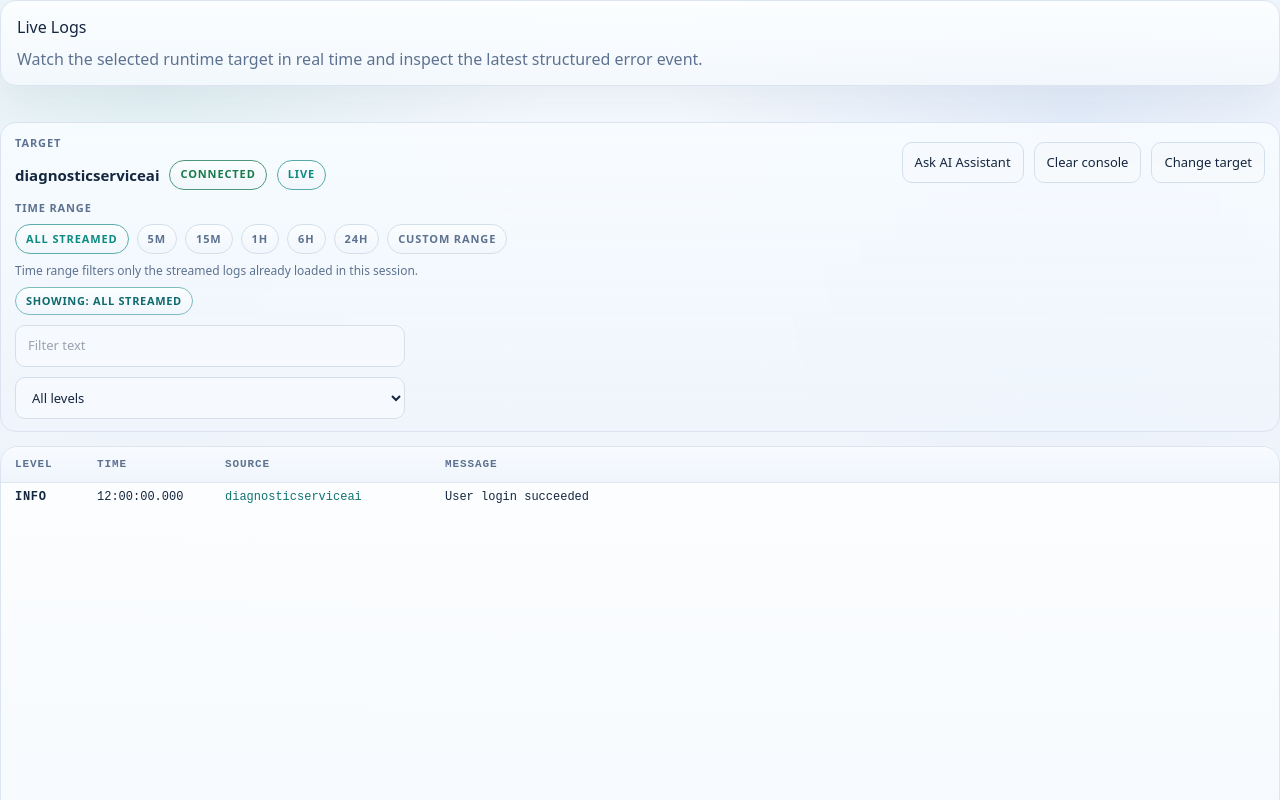
Test: LiveLogsPage › shows the currently active time range summary
Expected: the text named "active time range" shows "All streamed", left=26, top=293, right=182, bottom=308
Click the button "1h" at [260, 239], box left=241, top=224, right=279, bottom=254
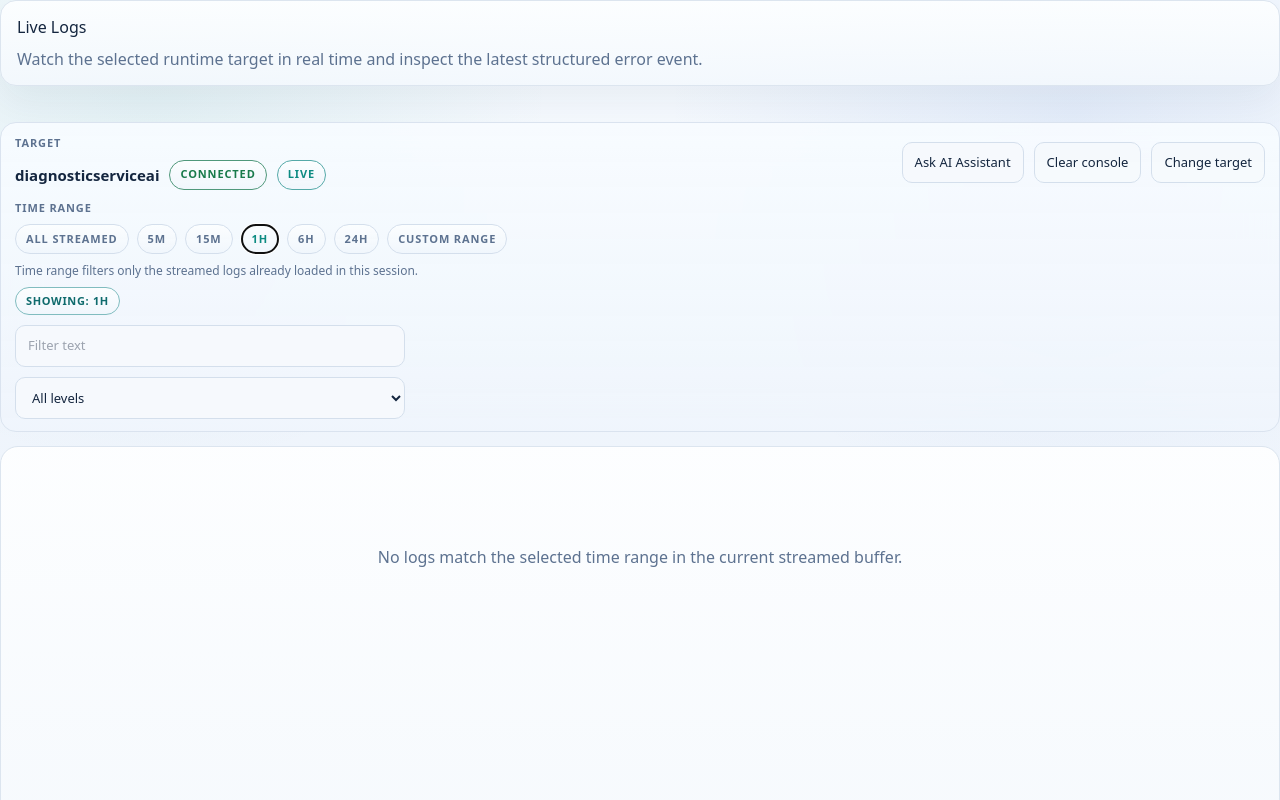
Result: the text named "active time range" reads "Showing: 1h" at left=26, top=293, right=109, bottom=308
